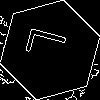L: (25, 25, 77, 64)
